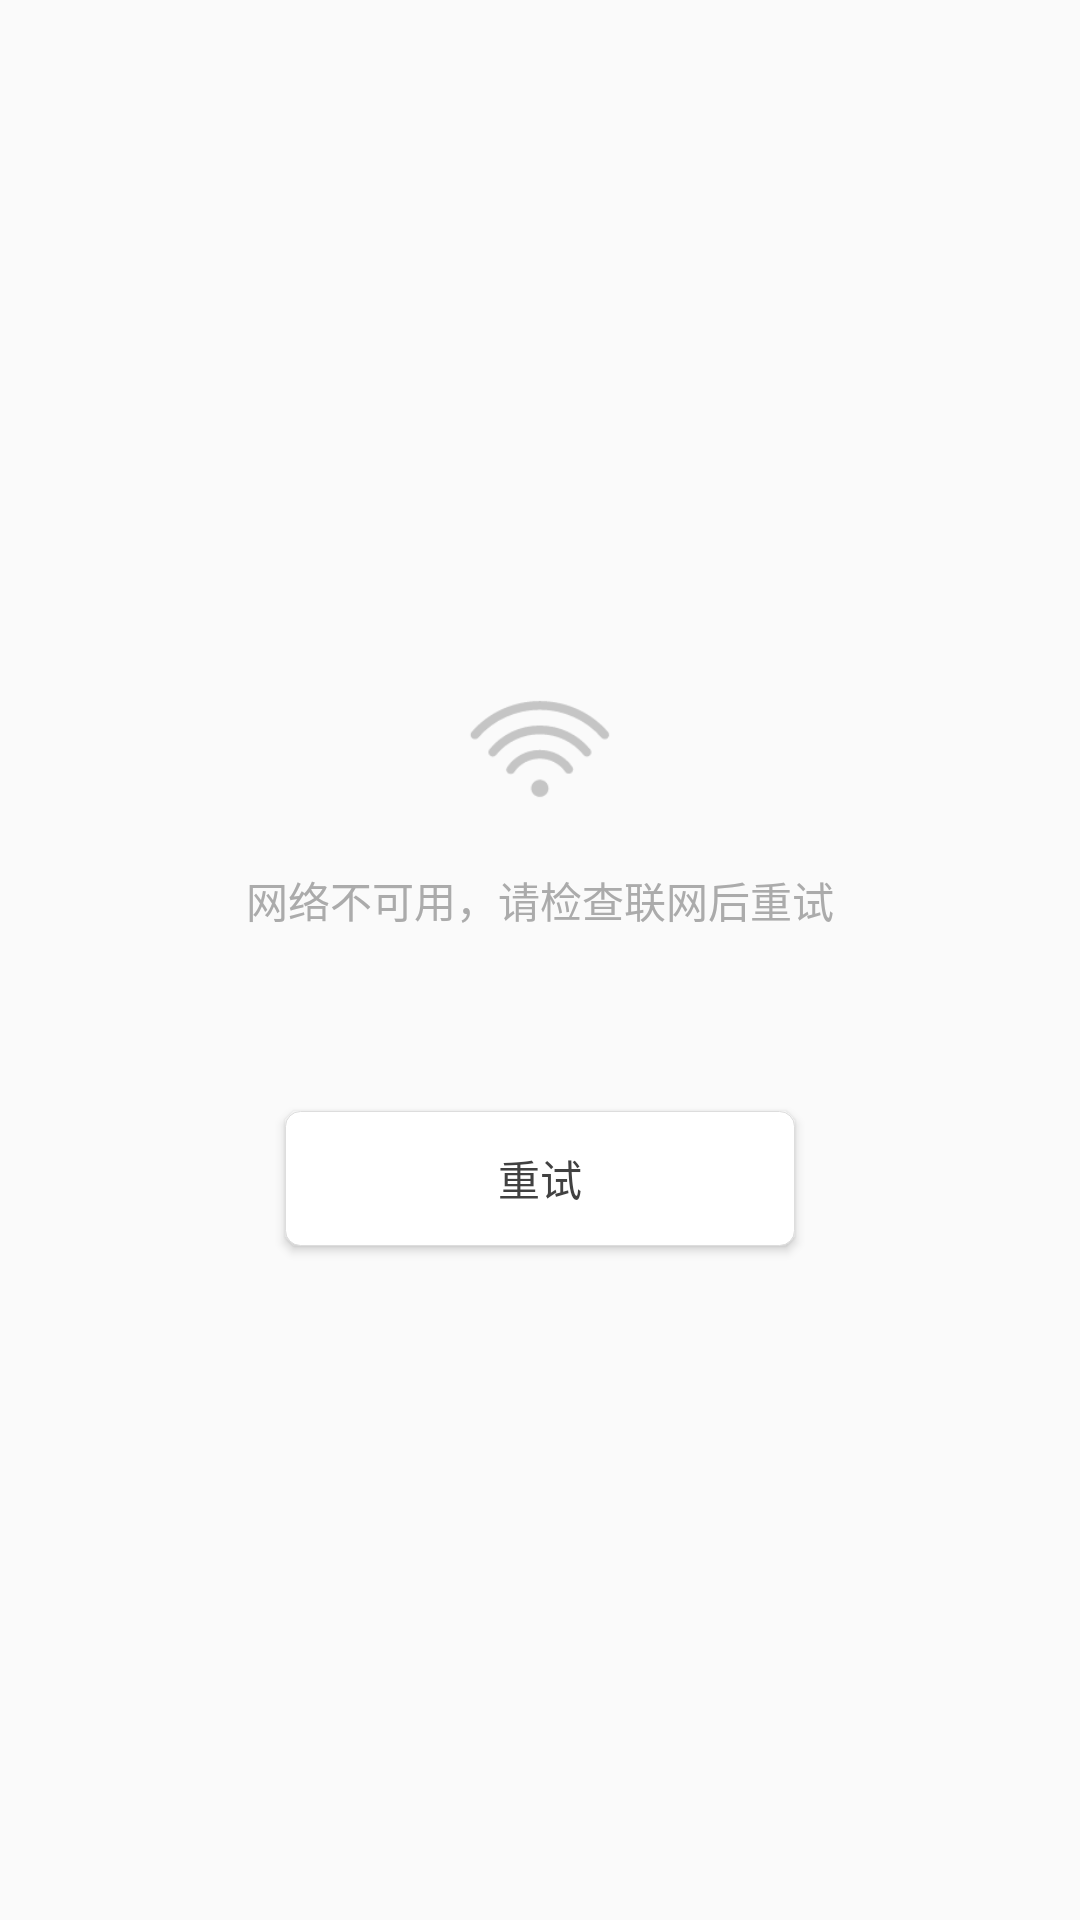

Where to tap for icons on this 1080px x 1920px app screen, as [x,y]:
wifi: [540,749]
